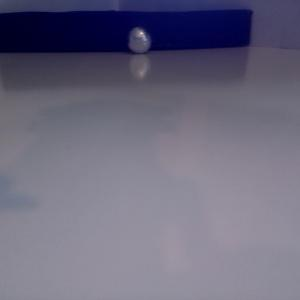zone: (1, 11, 252, 53)
